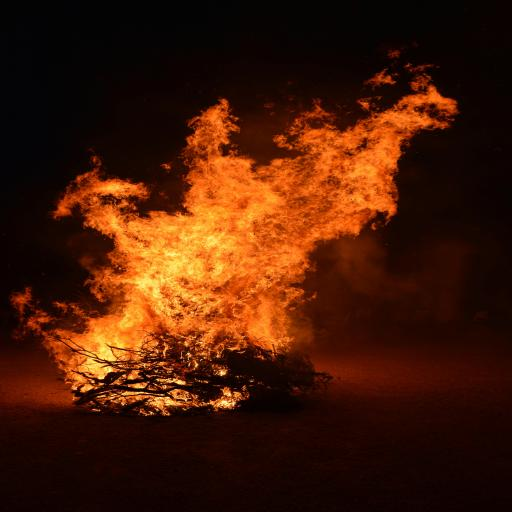fire: (13, 66, 458, 415)
wildfire: (15, 53, 498, 433)
